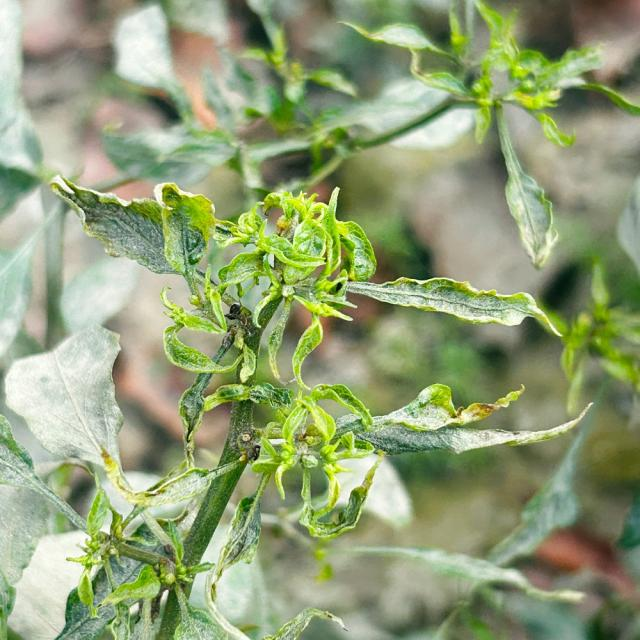Chilli_Leaf_Curl: (2, 171, 594, 637), (334, 0, 638, 269), (330, 382, 594, 456), (248, 394, 380, 538), (48, 172, 216, 278), (336, 274, 563, 338)
